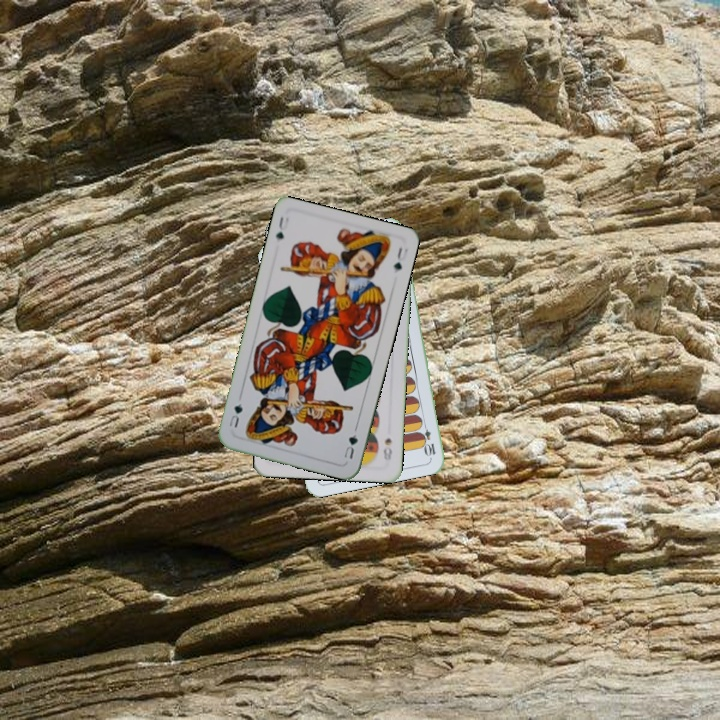E10: (418, 418, 438, 459)
GU: (340, 424, 360, 461), (272, 212, 291, 242)
S8: (379, 434, 394, 463)
